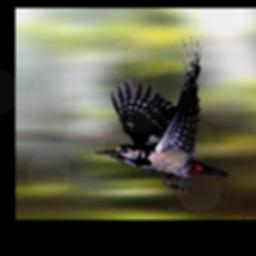Woodpecker: (94, 35, 229, 189)
